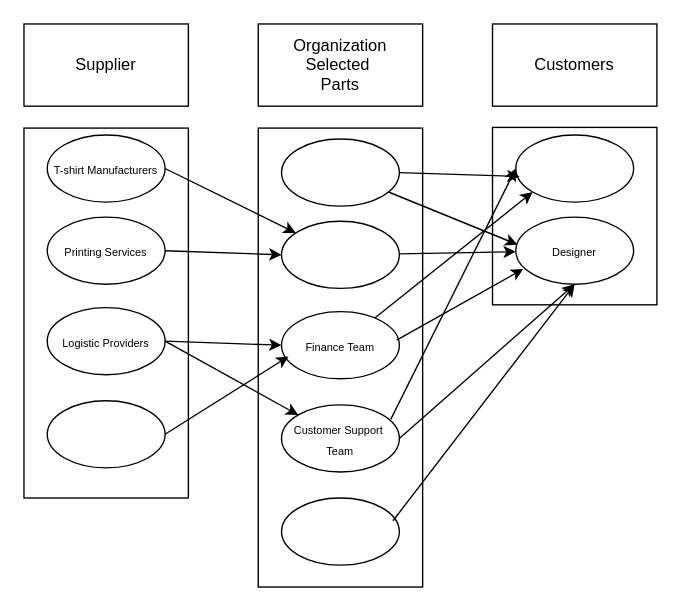
Image size: 681x611. Some labels were removed from this diagram. Here are the shapes that lost their labels. From the top down, the centre of each, then its label:
At (339,172): "User Data Management".
At (574,168): "User".
At (339,254): "Product Development Team".
At (105,433): "Payment Gateways".
At (339,531): "Advertising Team".
